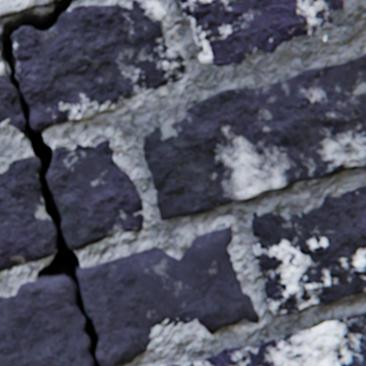brick: (143, 54, 365, 219), (251, 186, 365, 314), (178, 0, 342, 66), (193, 312, 365, 365), (0, 0, 61, 17)
broken_brick: (77, 227, 257, 365), (11, 0, 184, 131), (46, 140, 143, 250), (0, 276, 93, 365), (0, 157, 56, 270), (0, 43, 25, 132), (166, 364, 180, 365)
crack: (0, 0, 100, 365), (9, 96, 17, 106)
